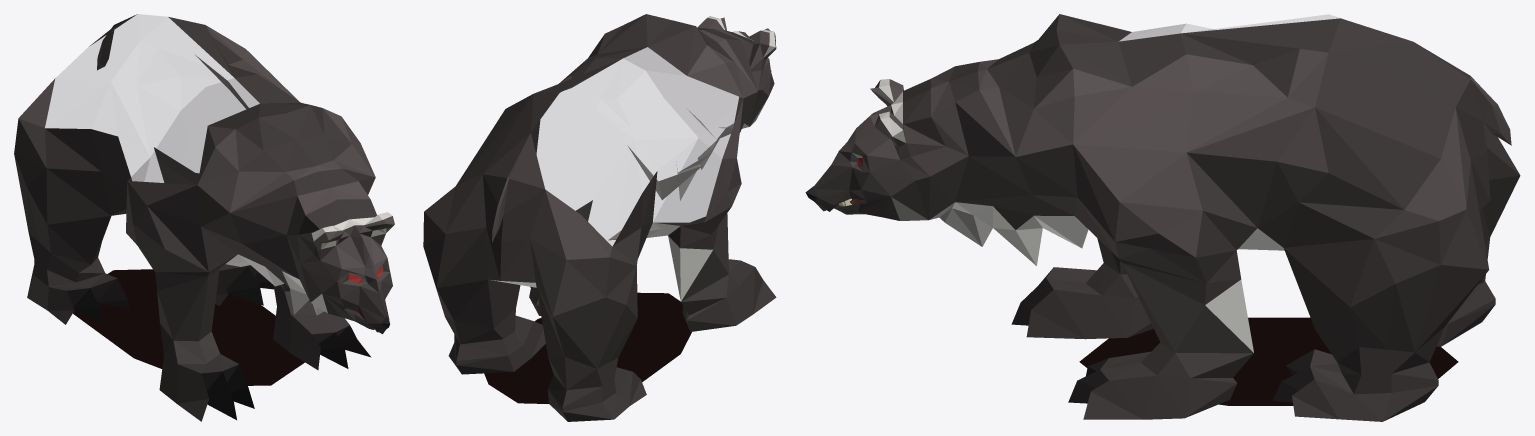
File: callisto.gltf
The picture shows the model from 3 angles, left to right: view 1: azimuth 30°, elevation 25°; view 2: azimuth 150°, elevation 25°; view 3: azimuth 270°, elevation 25°; orthographic projection. The views are drawn at different scales.
Size of the model in its own units: 194 by 255 by 473.
Materials: 2 (2 with a texture image).
